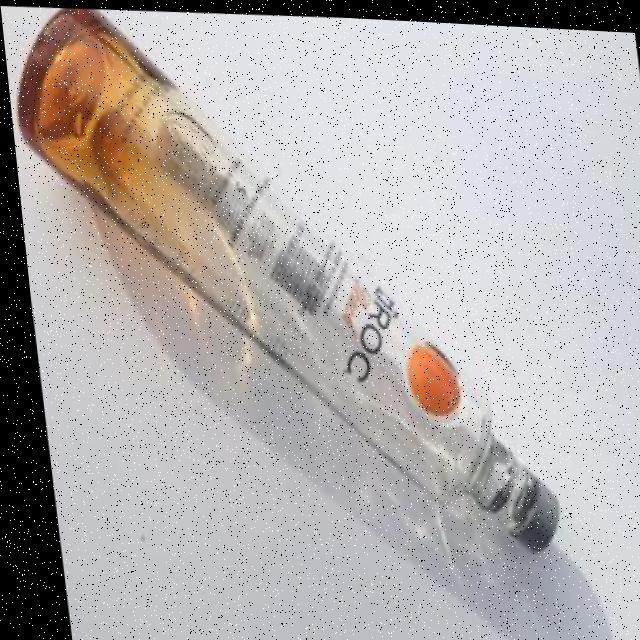glass: (0, 0, 560, 568)
